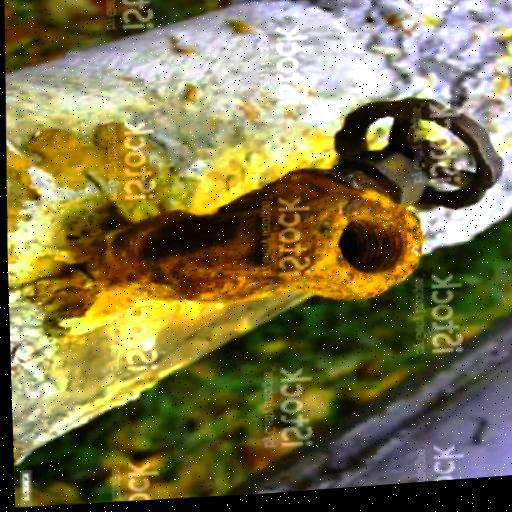corrosion: (55, 159, 431, 328)
